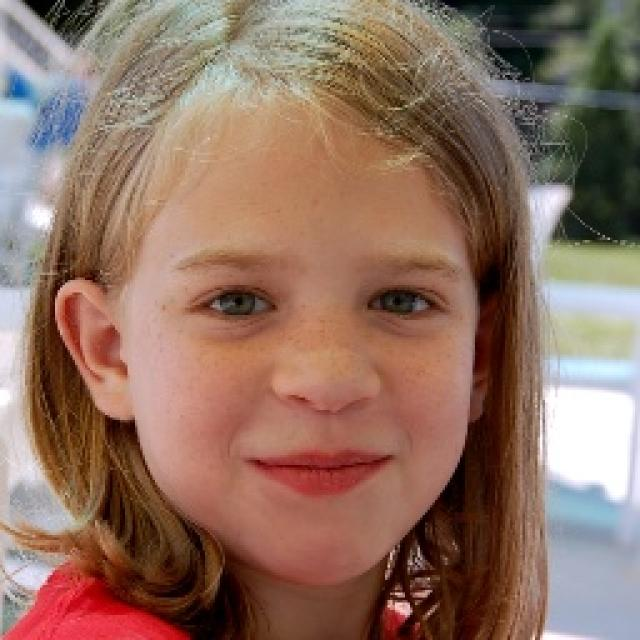earlobe: (49, 276, 136, 421), (469, 289, 512, 426)
